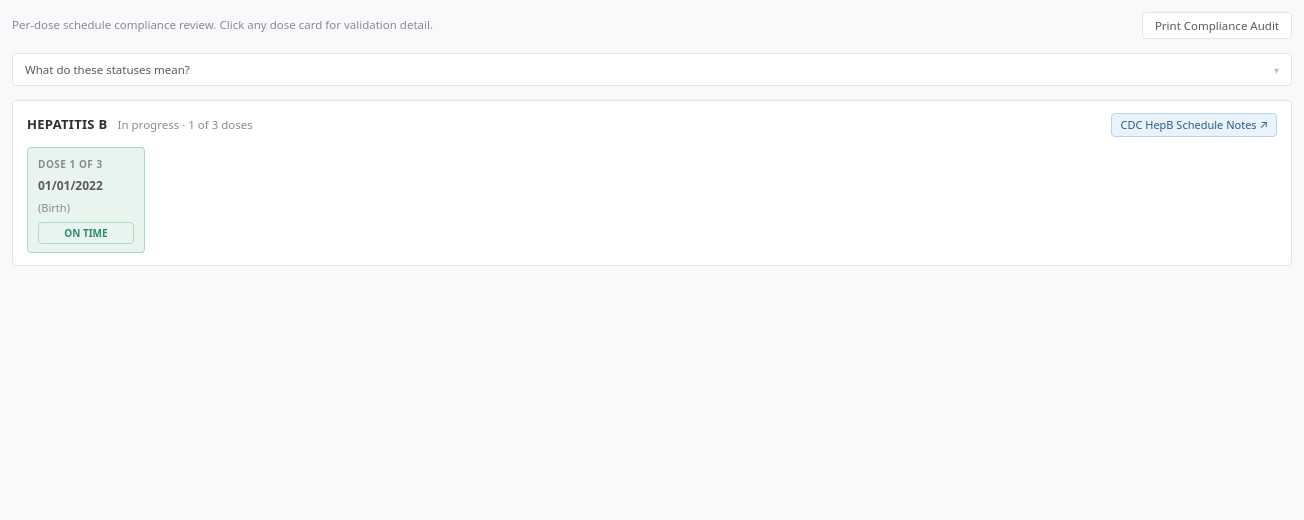
status legend › clicking toggle expands the legend
What coordinates should you click on to do the following:
click the button with test id "status-legend-toggle"
I would click on:
 (107, 70)
Its box is [13,54,1291,85].
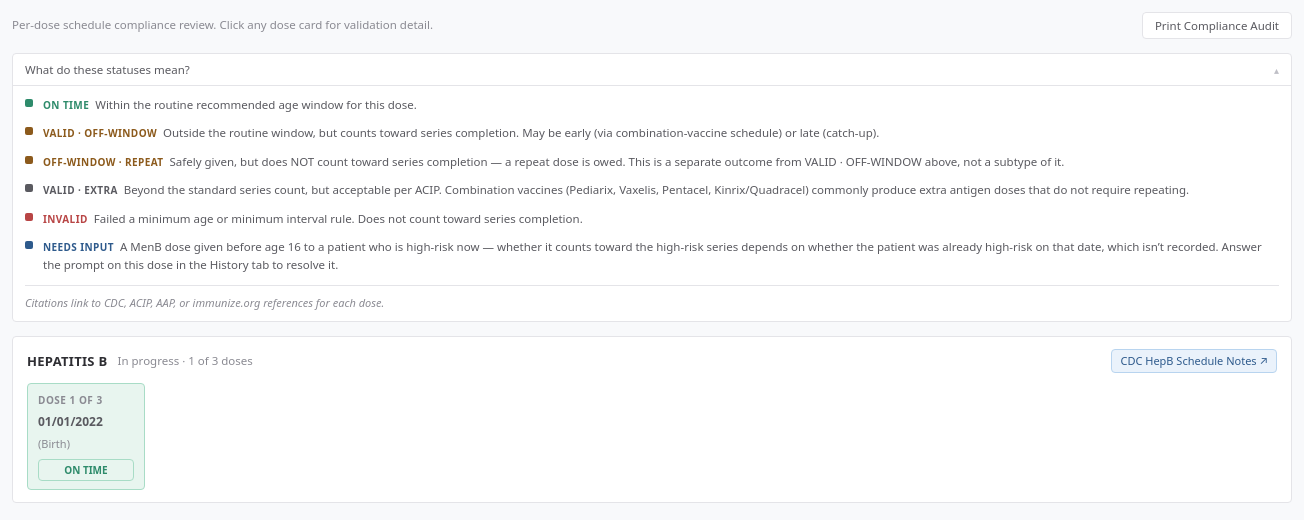
Expected: the element with test id "status-legend-content" is shown, [13,85,1291,321]
